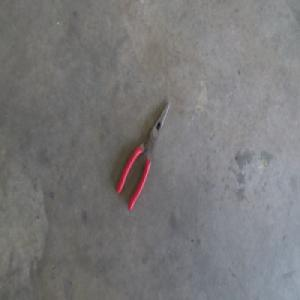Pliers: (114, 100, 170, 210)
